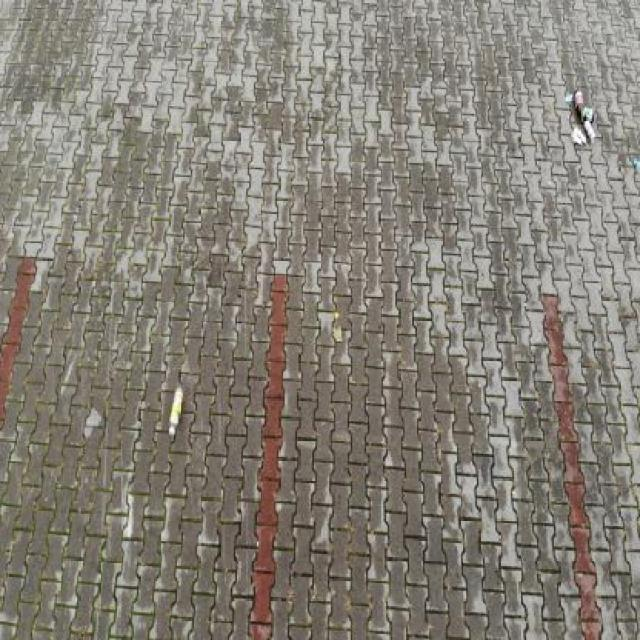Garbage: (168, 388, 183, 436), (573, 89, 584, 126), (571, 126, 587, 148), (583, 119, 596, 143), (582, 108, 595, 125), (564, 92, 574, 103), (633, 158, 639, 172), (567, 114, 570, 119)
